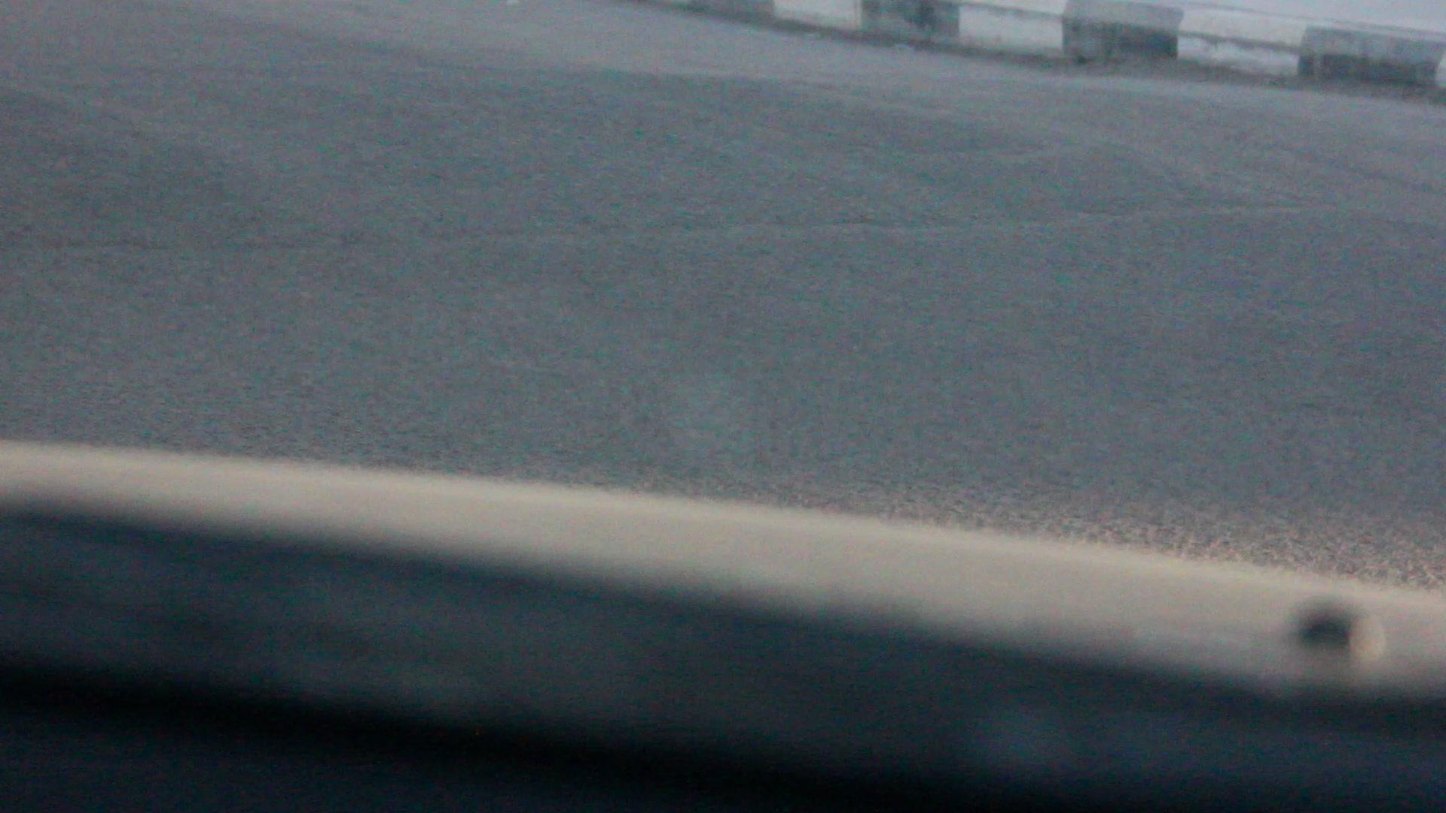Bump: (0, 32, 1445, 209)
